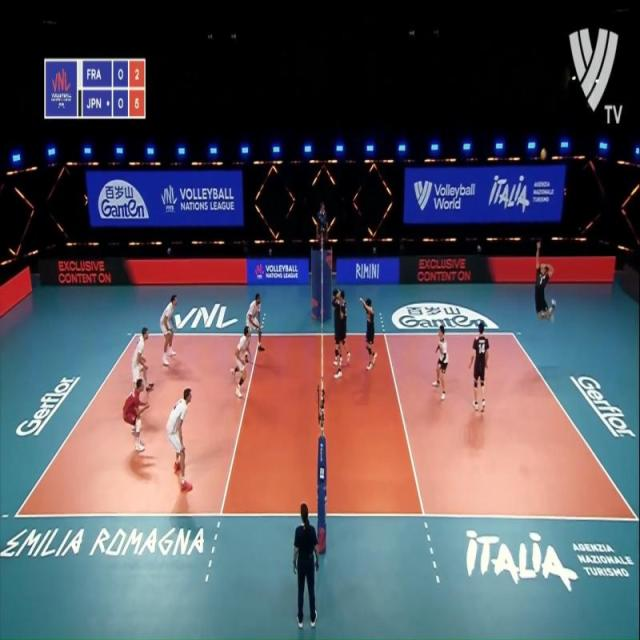volleyball: (540, 148, 547, 161)
